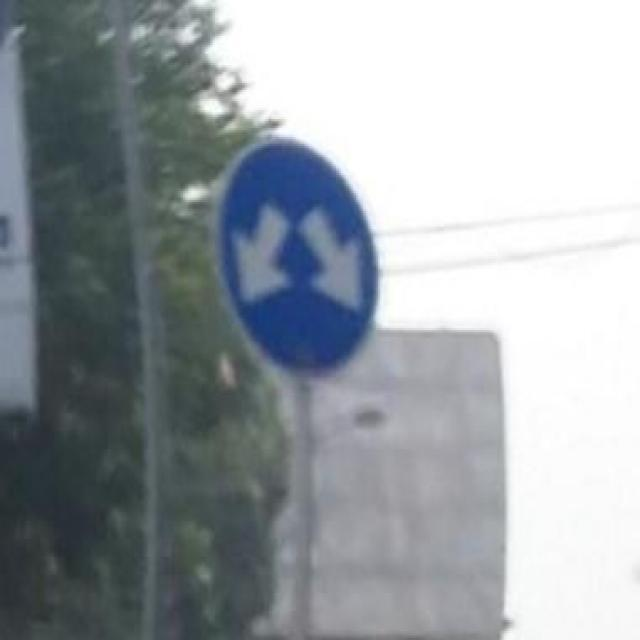traffic sign: (212, 137, 376, 382)
